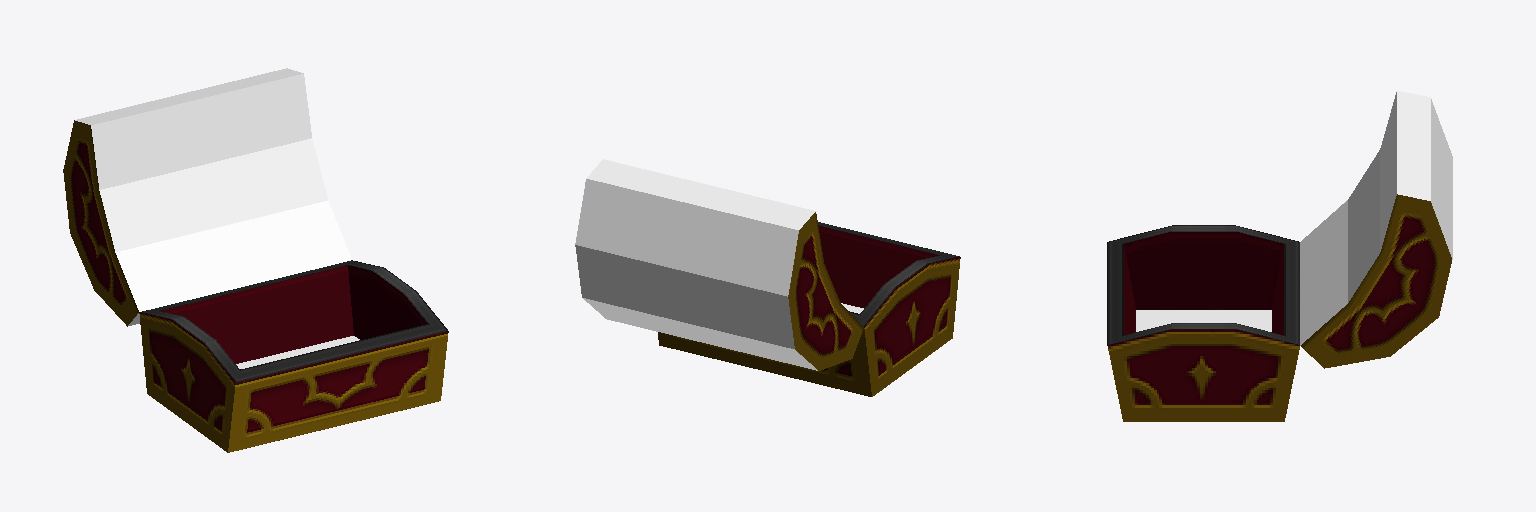
3 renders of one model, left to right at view 1: azimuth 30°, elevation 25°; view 2: azimuth 150°, elevation 25°; view 3: azimuth 270°, elevation 25°, orthographic.
Visible parts, largest first — view 1: rdmobj01, rdmobj00; view 2: rdmobj00, rdmobj01; view 3: rdmobj01, rdmobj00.
Part boxes in pixels (x1,y1,x2,y2): rdmobj01: (63, 120, 448, 452); rdmobj00: (75, 68, 359, 368); rdmobj00: (575, 159, 863, 370); rdmobj01: (658, 212, 960, 396); rdmobj01: (1107, 194, 1451, 421); rdmobj00: (1136, 90, 1452, 345).
Bounding box in the file's own units: 71.05 × 72.49 × 99.69.
2 materials, 1 textured.